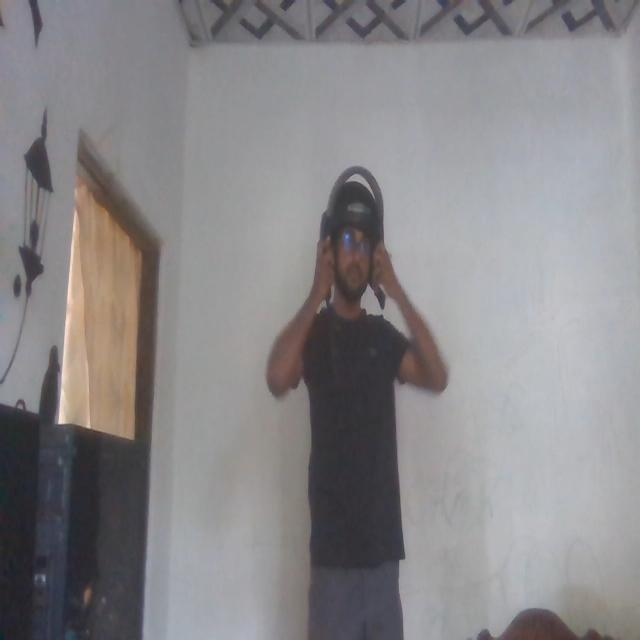Helmet_Wearer: (308, 173, 396, 345)
Person: (264, 168, 450, 640)
